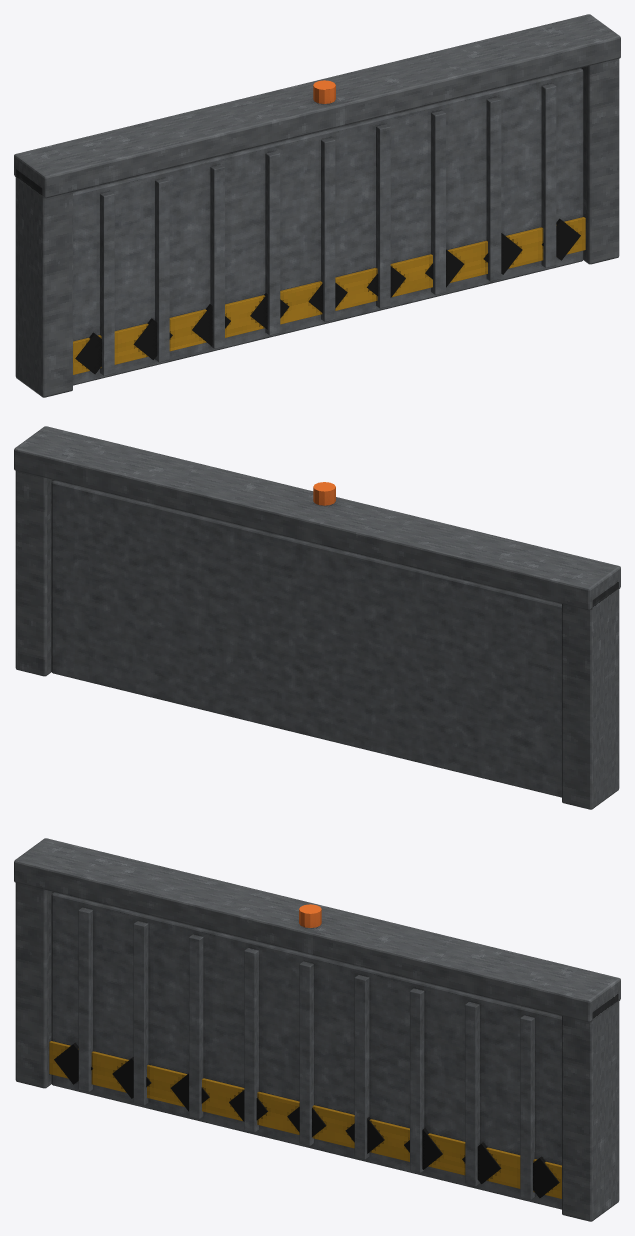
File: arena_mine_gate.glb
The picture shows the model from 3 angles, top to bottom: view 1: azimuth 30°, elevation 25°; view 2: azimuth 150°, elevation 25°; view 3: azimuth 330°, elevation 25°; orthographic projection.
Parts seen in each view (by area): view 1: arena_mine_gate; view 2: arena_mine_gate; view 3: arena_mine_gate.
Part boxes in pixels (<box>): arena_mine_gate: <box>14,14,620,397</box>; arena_mine_gate: <box>14,426,620,809</box>; arena_mine_gate: <box>14,838,620,1221</box>.
Bounding box in the file's own units: 9.4 × 3.71 × 0.9.
Materials: 5 (5 with a texture image).
